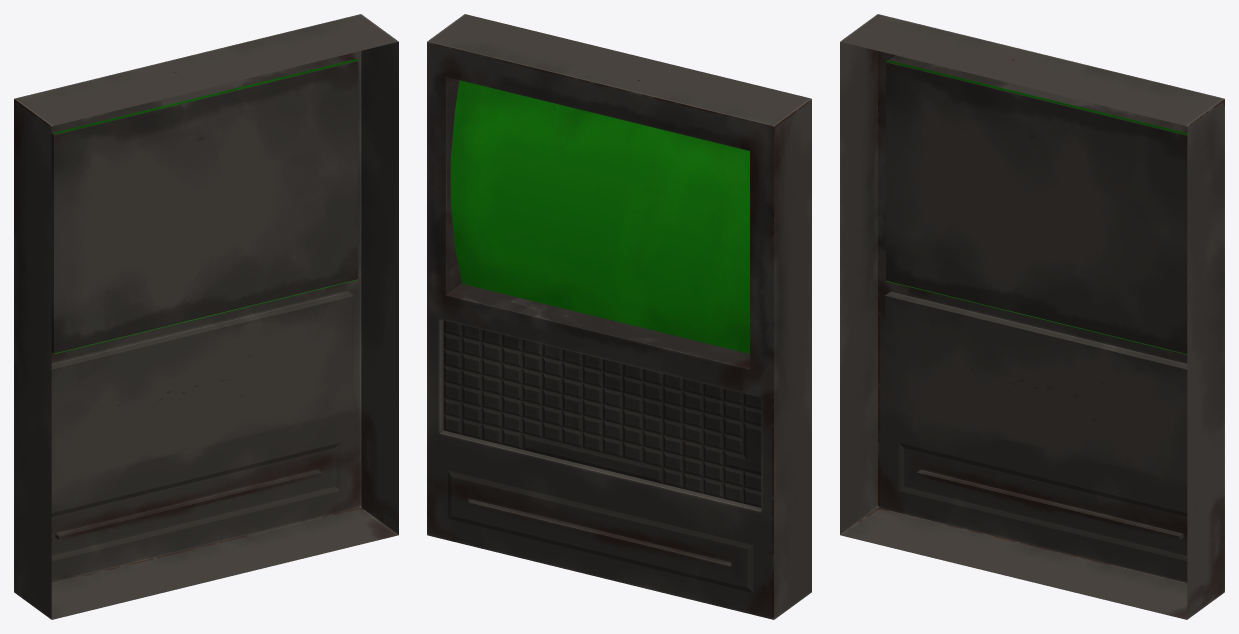
The model's file is Pantalla_03.fbx.
3 views of the same model, side by side, from view 1: azimuth 30°, elevation 25°; view 2: azimuth 150°, elevation 25°; view 3: azimuth 330°, elevation 25° (orthographic).
Parts seen in each view (by area): view 1: Pantalla_03; view 2: Pantalla_03; view 3: Pantalla_03.
Boxes of the visible parts, x1,y1,x2,y2 form: Pantalla_03: (14, 14, 398, 619); Pantalla_03: (427, 14, 811, 619); Pantalla_03: (840, 14, 1224, 619).
Bounding box in the file's own units: 66.23 × 89.99 × 12.75.
2 materials, 2 textured.
